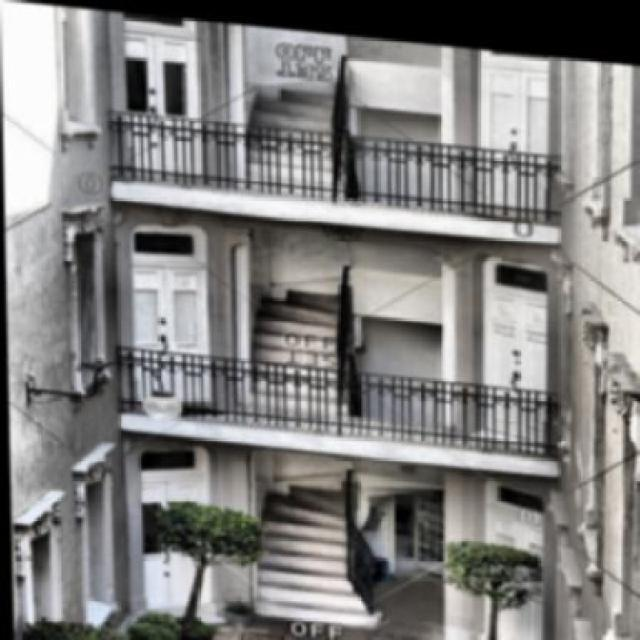stair: (221, 483, 374, 617), (236, 252, 356, 417), (240, 68, 351, 190)
